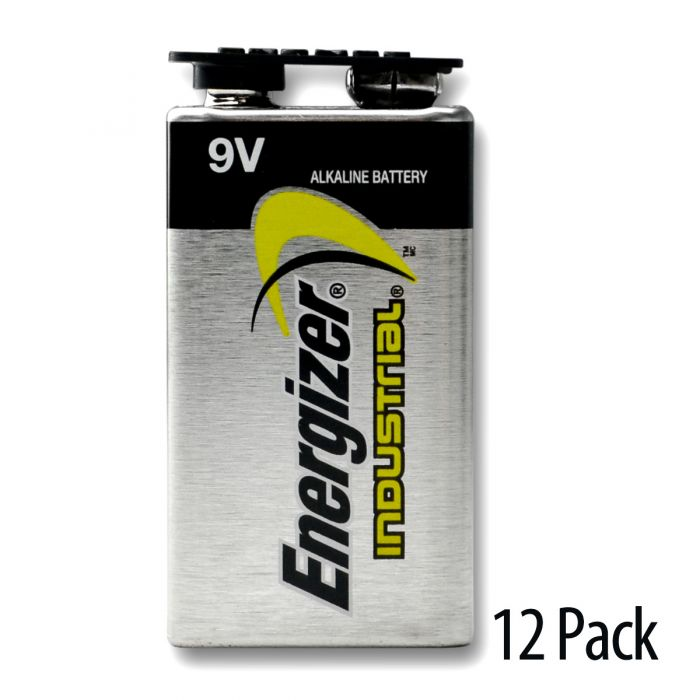9V: (150, 41, 496, 665)
